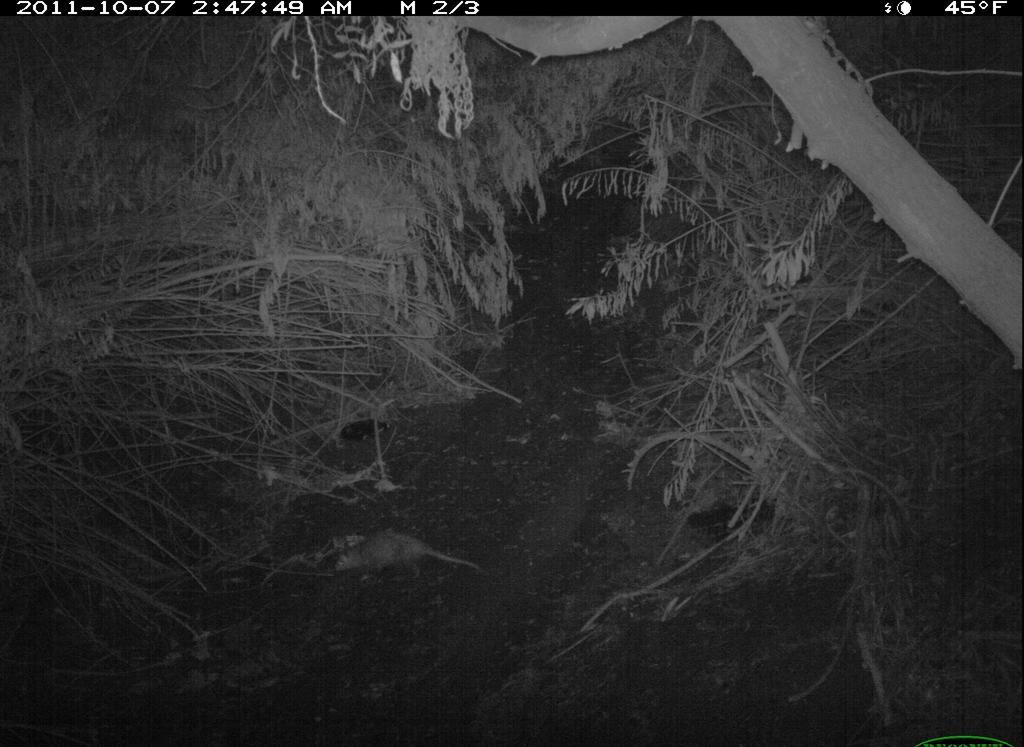opossum: (326, 520, 502, 594)
